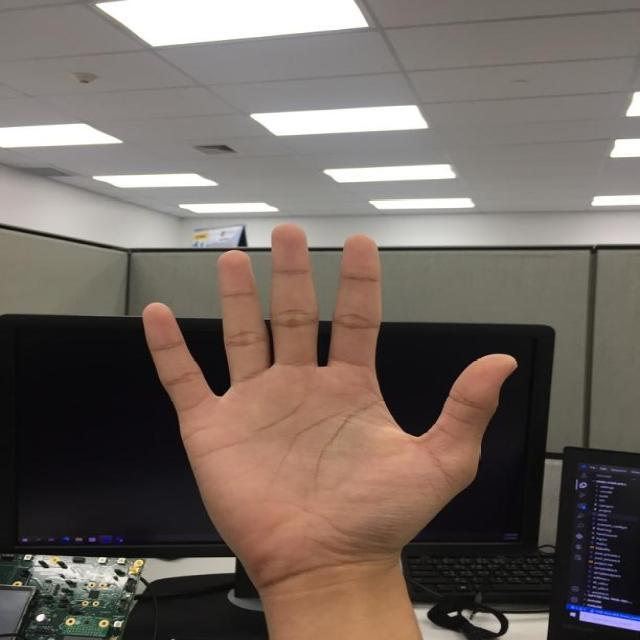Hand: (141, 219, 518, 640)
